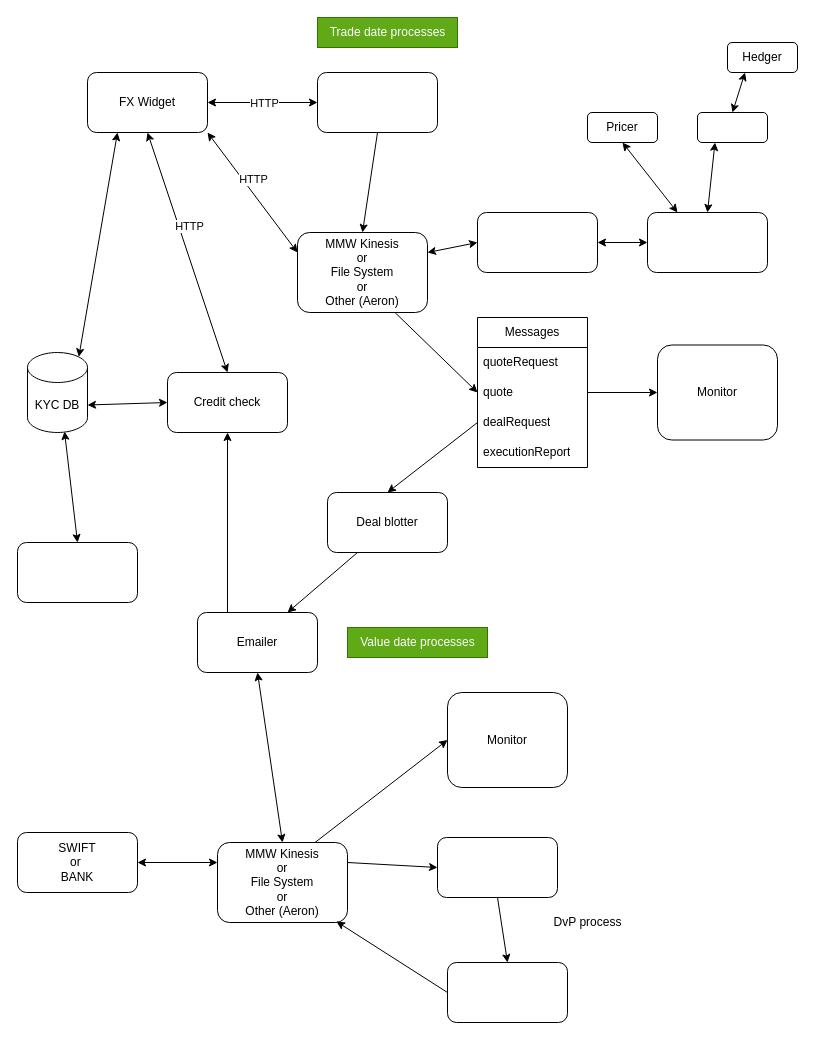
Image size: 815x1040. Some labels were removed from this diagram. Each missing label, with the centre of its shape:
"Credit maker" goes at pixel 507 992.
"Dealer" goes at pixel 732 127.
"Debit monitor" goes at pixel 497 867.
"FIX acceptor" goes at pixel 707 242.
"FIX initiator" goes at pixel 537 242.
"KYC Onboarding UI AWS Cognito" goes at pixel 77 572.
"Node server" goes at pixel 377 102.
